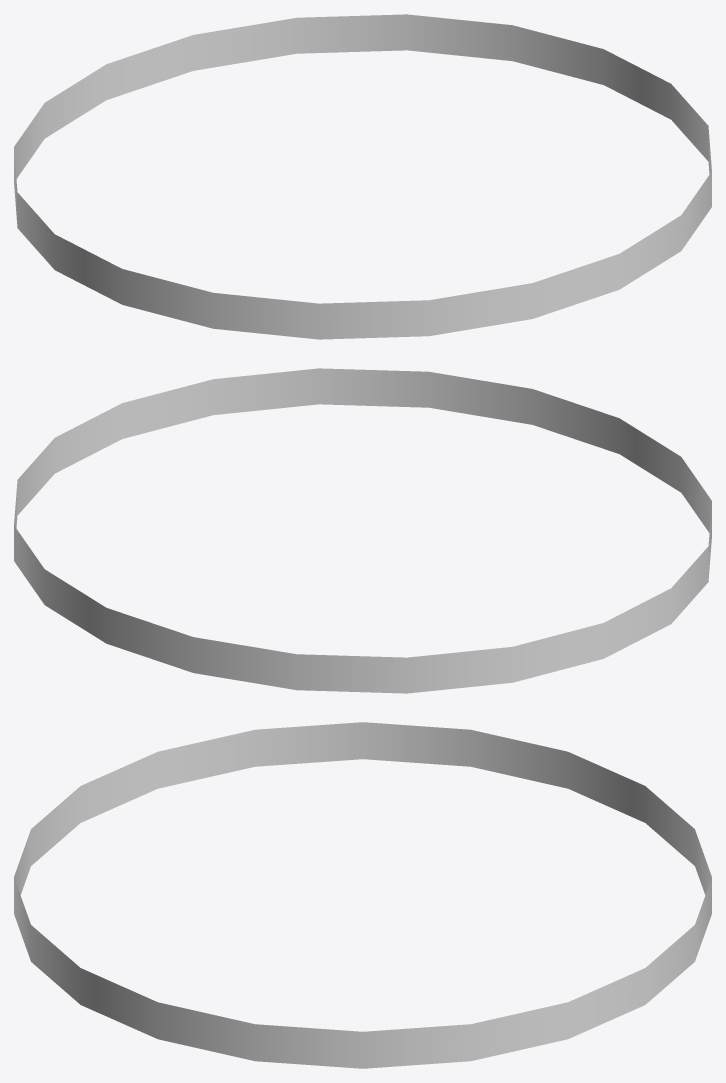
Rendered from BoarderGlowLight.fbx.
3 renders of one model, top to bottom at view 1: azimuth 30°, elevation 25°; view 2: azimuth 150°, elevation 25°; view 3: azimuth 270°, elevation 25°, orthographic. The views are drawn at different scales.
Parts seen in each view (by area): view 1: BoarderGlowLight; view 2: BoarderGlowLight; view 3: BoarderGlowLight.
Part boxes in pixels (box(x1,y1,x2,y2)): BoarderGlowLight: box(14, 14, 711, 339); BoarderGlowLight: box(14, 368, 711, 693); BoarderGlowLight: box(14, 722, 711, 1068).
Bounding box in the file's own units: 6672 × 372 × 6357.
Materials: 1 (1 with a texture image).
